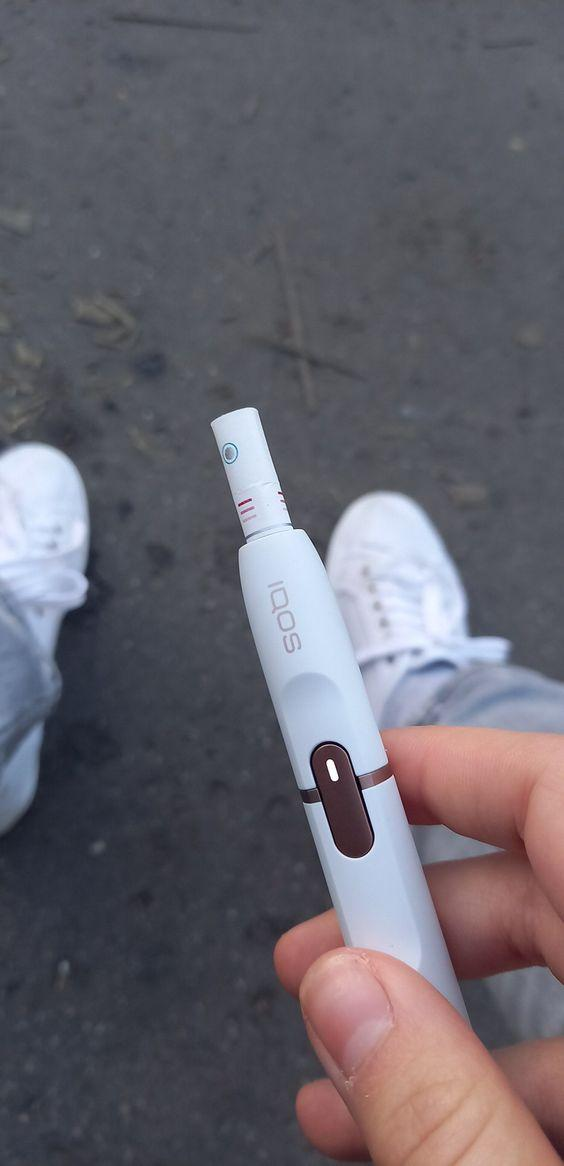iqos: (212, 406, 466, 1017)
